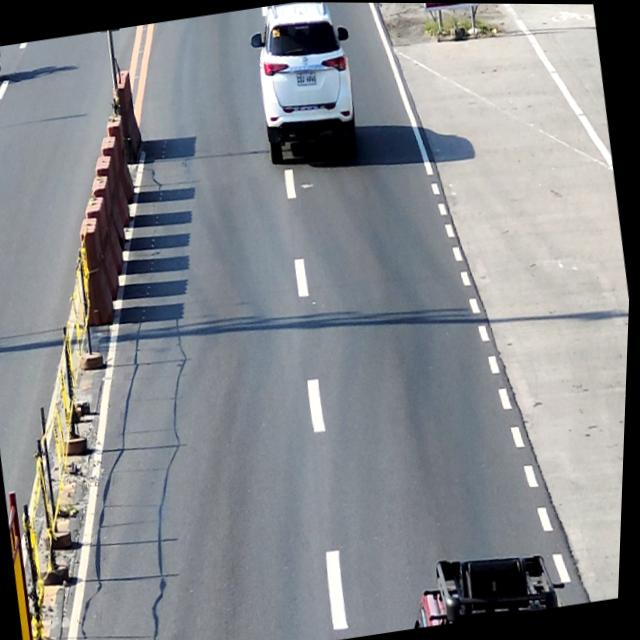Car: (241, 1, 369, 167)
License-Plate: (297, 70, 318, 87)
